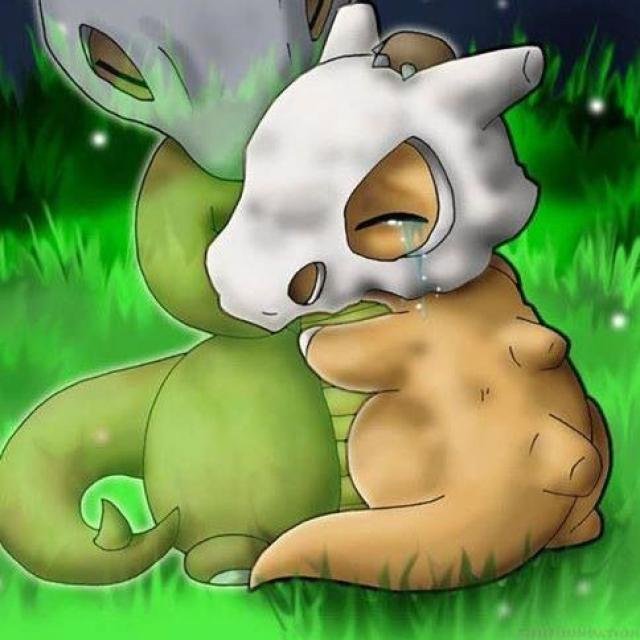Cubone: (231, 51, 581, 588)
